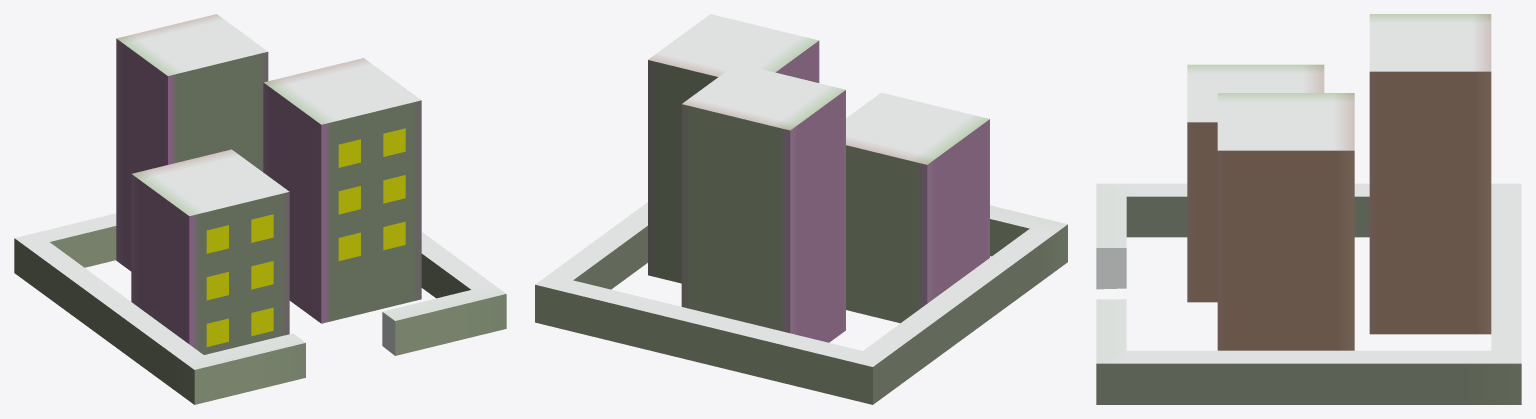
File: City.JadeSun.Snow.glb
The picture shows the model from 3 angles, left to right: view 1: azimuth 30°, elevation 25°; view 2: azimuth 150°, elevation 25°; view 3: azimuth 270°, elevation 25°; orthographic projection. The views are drawn at different scales.
Visible parts, largest first — view 1: City.JadeSun.Snow; view 2: City.JadeSun.Snow; view 3: City.JadeSun.Snow.
Boxes of the visible parts, x1,y1,x2,y2 form: City.JadeSun.Snow: (14,14,506,404); City.JadeSun.Snow: (535,14,1067,404); City.JadeSun.Snow: (1096,14,1521,404).
Bounding box in the file's own units: 2.8 × 1.91 × 2.8.
Materials: 2 (1 with a texture image).
